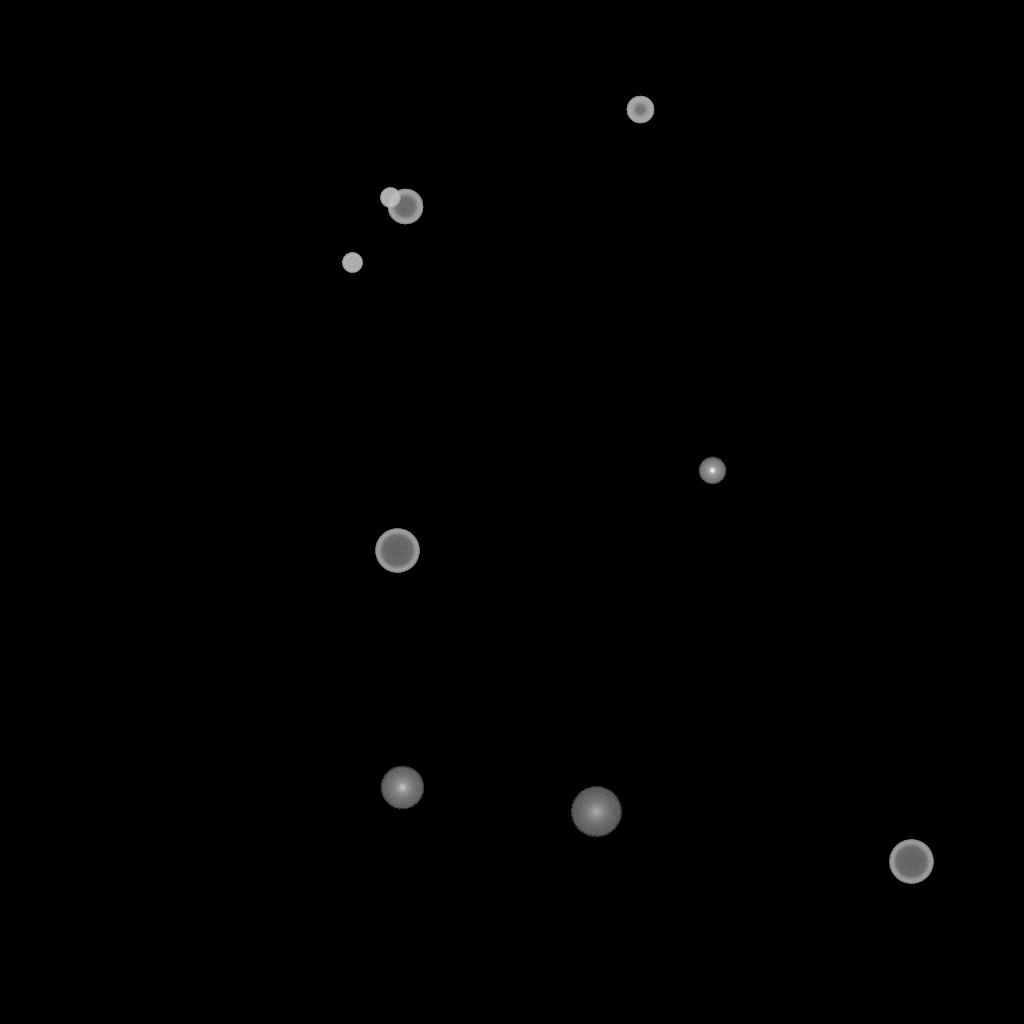depth:-10: (698, 457, 726, 485)
depth:-40: (342, 253, 362, 273), (380, 188, 400, 208)
depth:-50: (626, 96, 654, 124)
depth:-60: (387, 189, 423, 225)
depth:-70: (889, 840, 933, 884), (375, 529, 419, 573)
depth:10: (380, 766, 424, 810)
depth:20: (570, 787, 622, 837)
